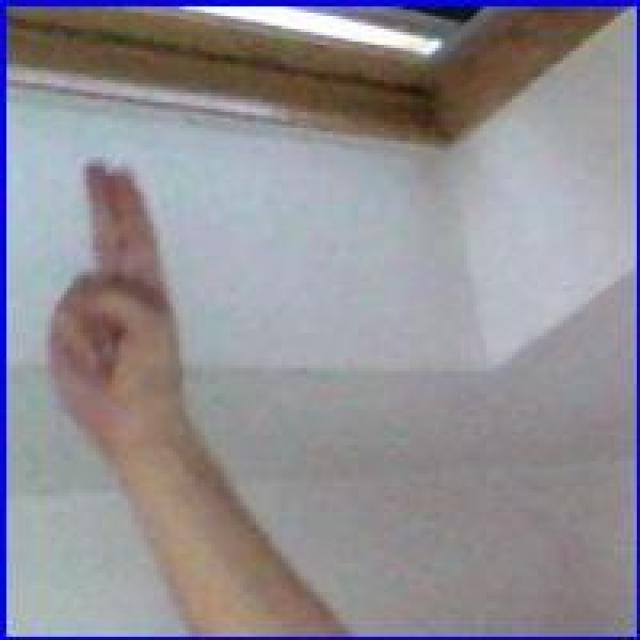U: (34, 158, 184, 460)
